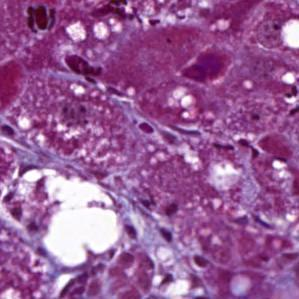ballooning: (14, 164, 126, 272)
